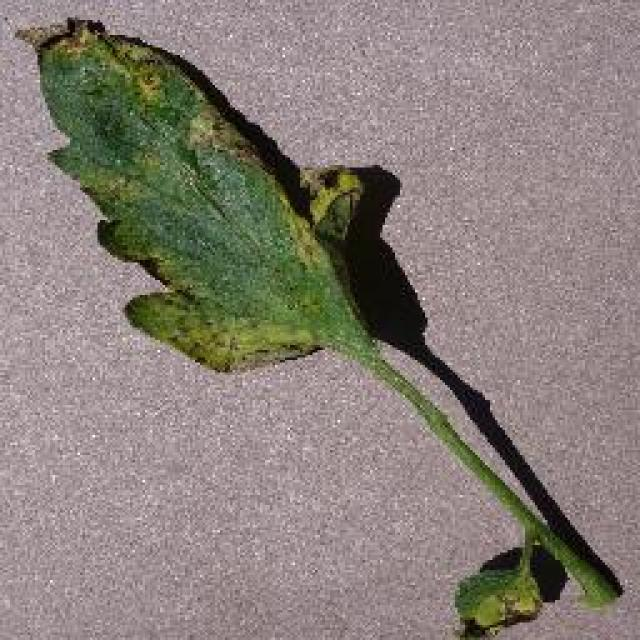Tomato target spot leaf: (14, 14, 374, 381)
